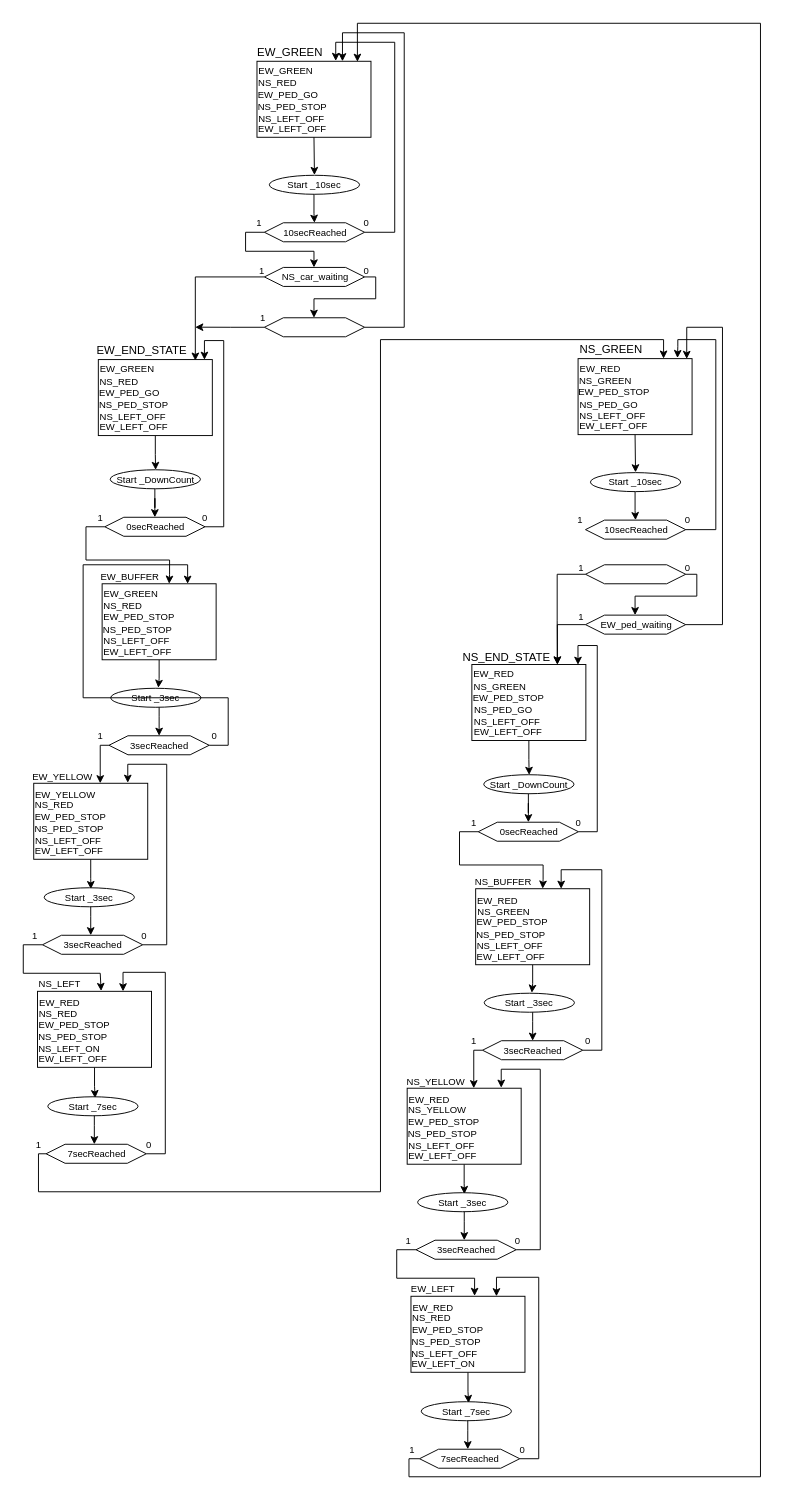
The diagram is 785 pixels wide and 1501 high, and some of its shapes have lost their labels. The box of each missing label's shape, as (x1, y1, x2, y2) in pixels:
EW_car_waiting: (585, 564, 686, 584)
NS_ped_waiting: (263, 317, 365, 337)
